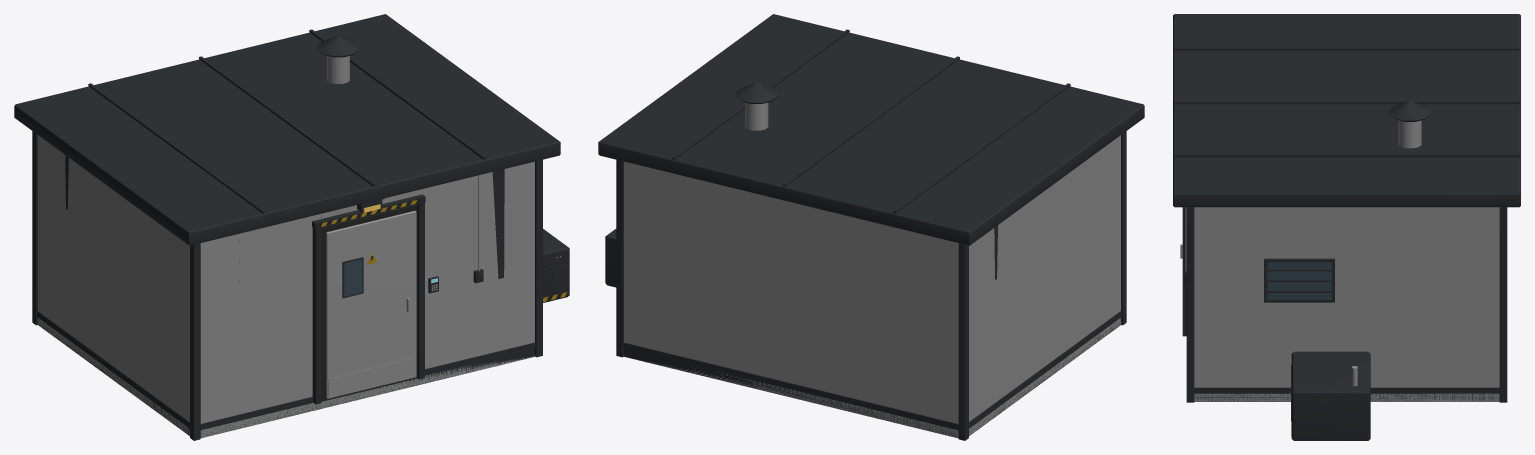
File: Roof_Shed.fbx
3 renders of one model, left to right at view 1: azimuth 30°, elevation 25°; view 2: azimuth 150°, elevation 25°; view 3: azimuth 270°, elevation 25°, orthographic.
Visible parts, largest first — view 1: Roof_Shed_LOD0; view 2: Roof_Shed_LOD0; view 3: Roof_Shed_LOD0.
Boxes of the visible parts, x1,y1,x2,y2 form: Roof_Shed_LOD0: (14, 14, 569, 440); Roof_Shed_LOD0: (598, 14, 1144, 440); Roof_Shed_LOD0: (1173, 14, 1520, 440).
Size of what is drawn, in the model's own units: 6.4 by 3.6 by 4.4.
